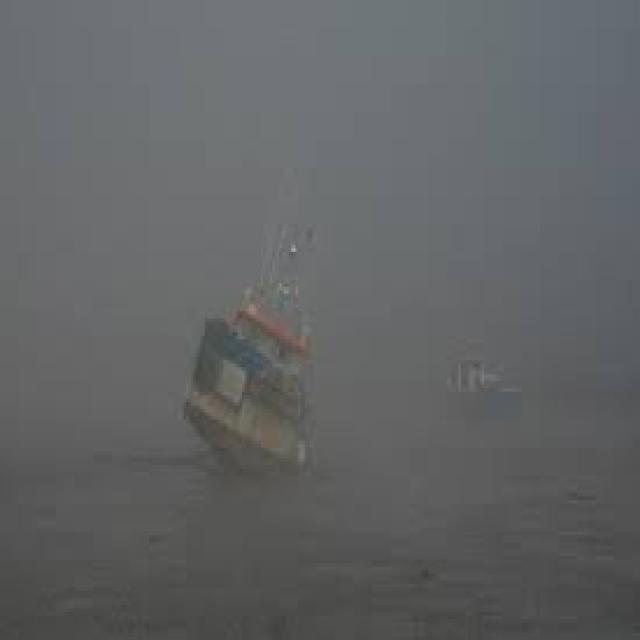fishing boat: (184, 171, 326, 519)
